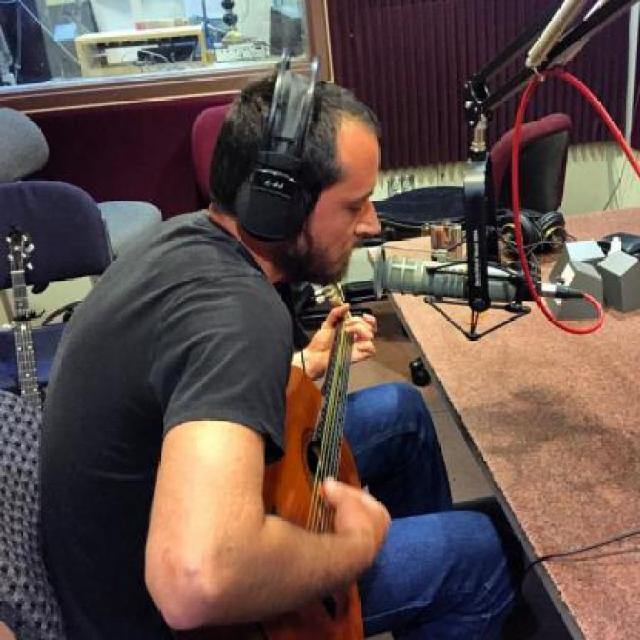earphone: (234, 17, 324, 265)
